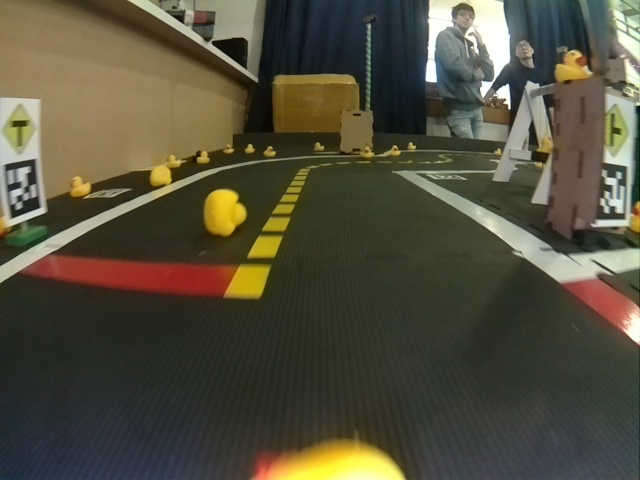Duckie: (203, 188, 247, 236), (555, 50, 587, 79), (152, 165, 172, 186), (70, 177, 87, 196), (196, 152, 210, 163), (167, 155, 181, 166), (264, 146, 274, 156), (361, 147, 371, 157), (407, 142, 417, 151), (223, 145, 232, 154), (244, 144, 254, 152), (391, 146, 400, 154), (314, 142, 323, 150)
Intersection sign: (2, 103, 36, 151), (604, 104, 627, 156)
QR code: (4, 160, 41, 219), (598, 164, 628, 220), (87, 188, 131, 198), (427, 172, 467, 181)
